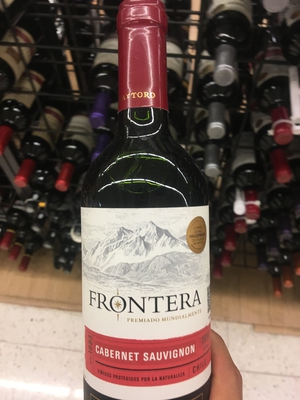frontera cabernet sauvignon: (75, 22, 222, 400)
